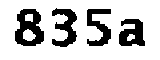3: (48, 6, 79, 51)
5: (84, 7, 115, 50)
8: (11, 7, 45, 48)
a: (117, 16, 148, 53)
